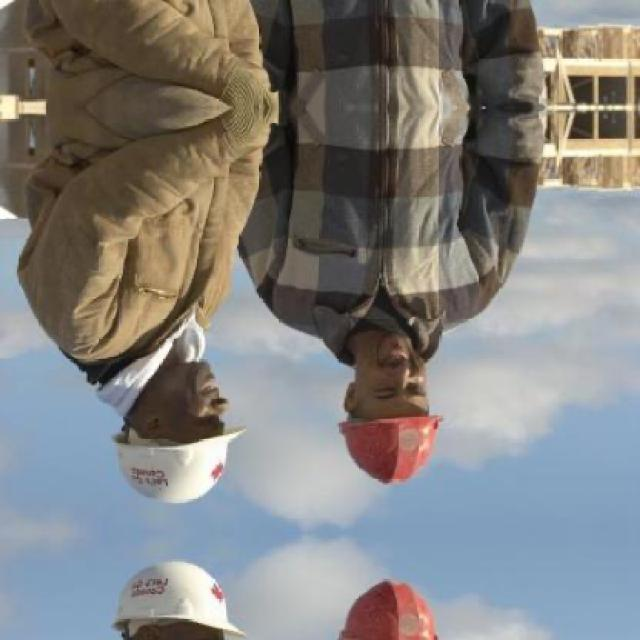con casco: (83, 344, 253, 507), (329, 324, 453, 493)
